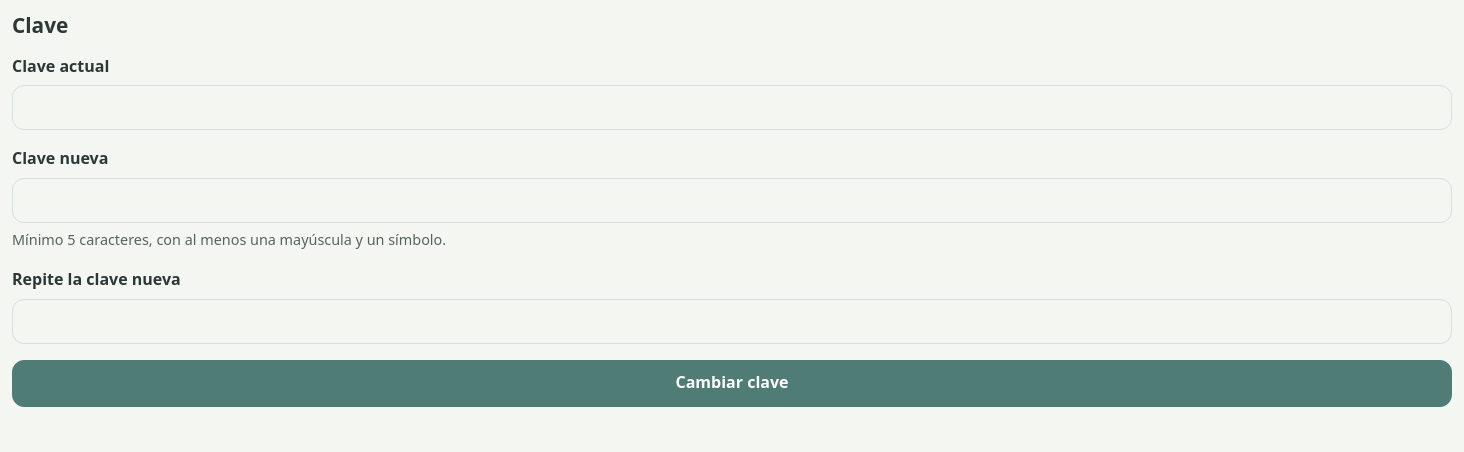
Scenario: una clave actual incorrecta se marca en su campo y no cierra la sesión
Type "Mala!" into the password field labelled "Clave actual". click: (732, 108)
box: [12, 85, 1452, 130]
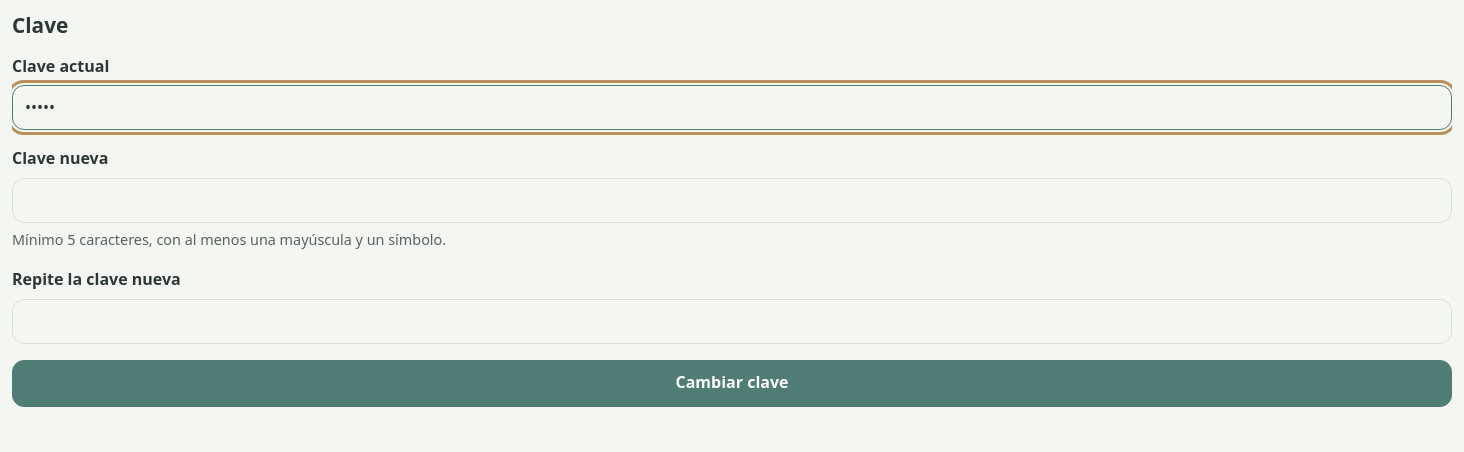
Type "Nueva!" into the password field labelled "Clave nueva". click: (732, 200)
box: [12, 178, 1452, 223]
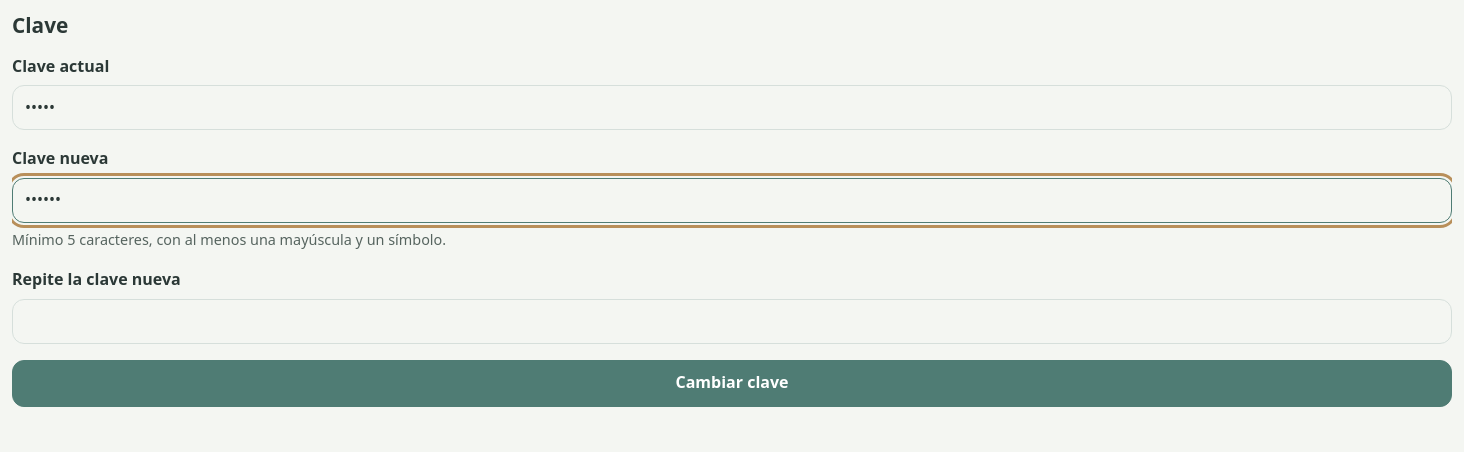
Type "Nueva!" into the password field labelled "Repite la clave nueva". click: (732, 321)
box: [12, 299, 1452, 344]
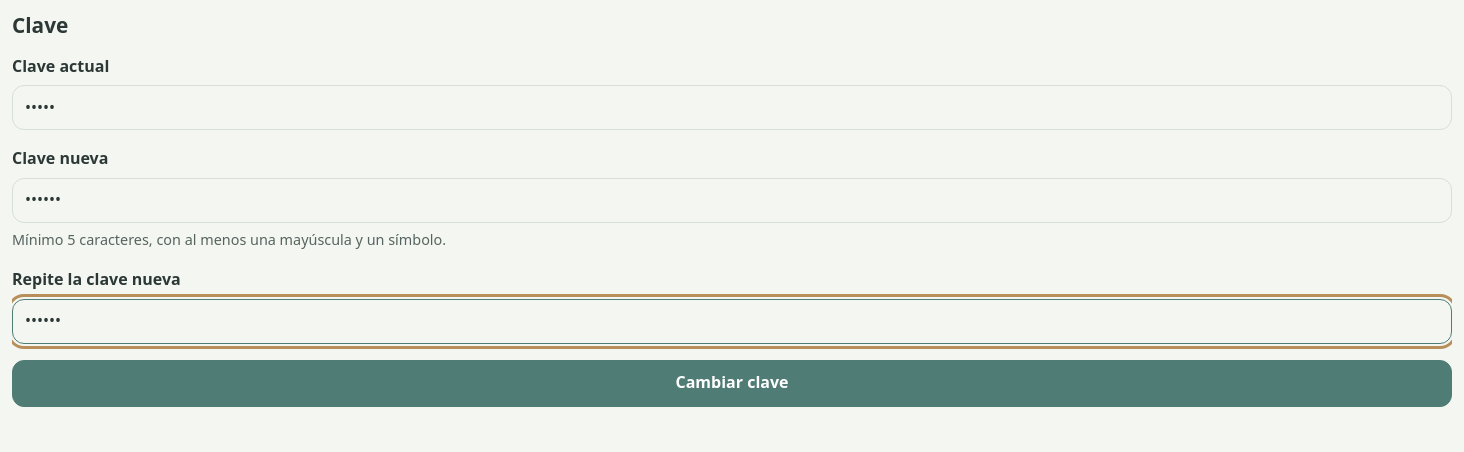
Click the button "Cambiar clave". click: click(732, 383)
box: [12, 360, 1452, 407]
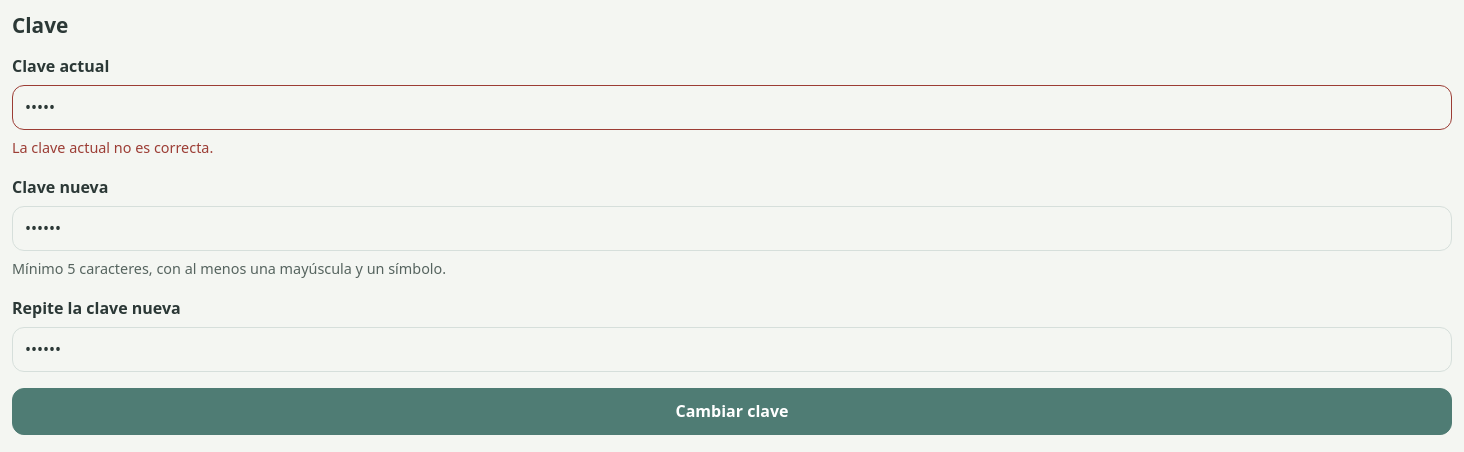
Check: the text "La clave actual no es correcta." is shown, box [12, 138, 213, 157]
